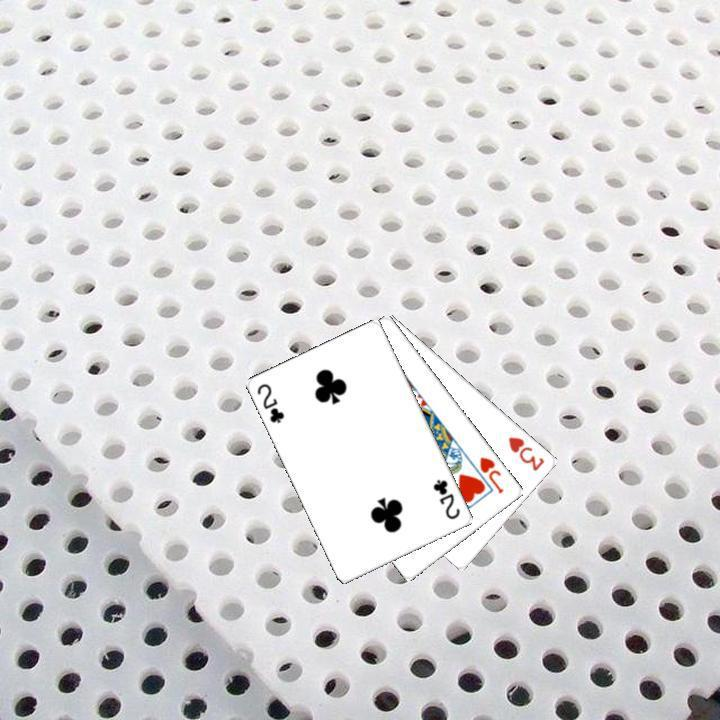2: (253, 379, 287, 425), (429, 475, 462, 521)
3: (504, 432, 547, 473)
J: (475, 452, 506, 496)
